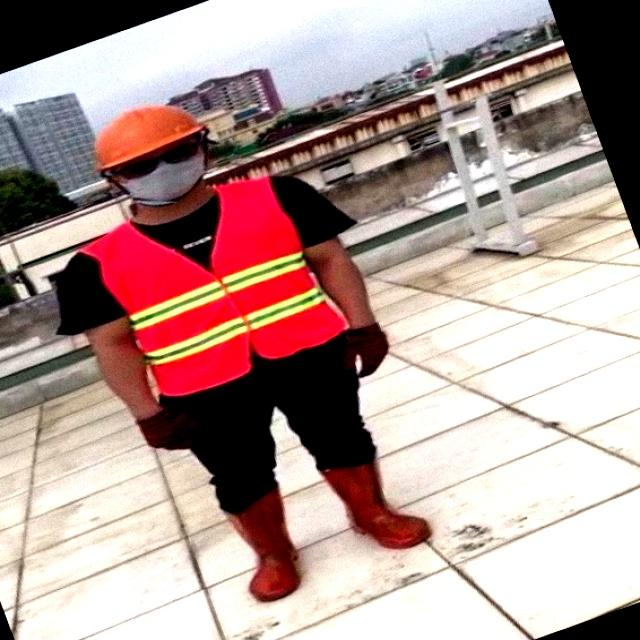helmet: (84, 101, 222, 158)
safety_vest: (72, 187, 343, 400)
